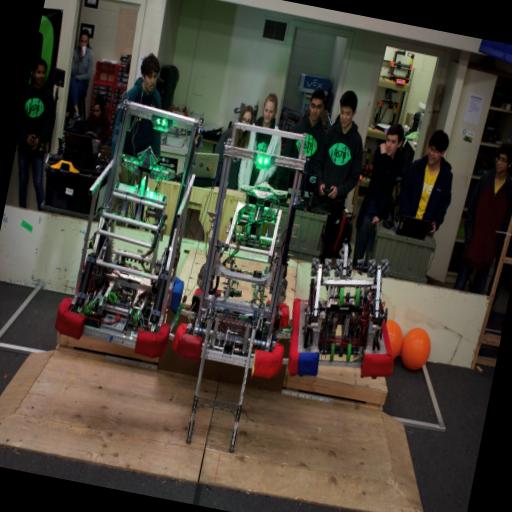robot: (52, 93, 216, 371), (174, 119, 329, 385), (283, 236, 417, 398)
